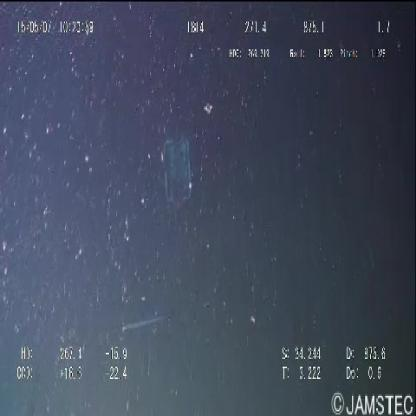Rác: (160, 128, 198, 211)
